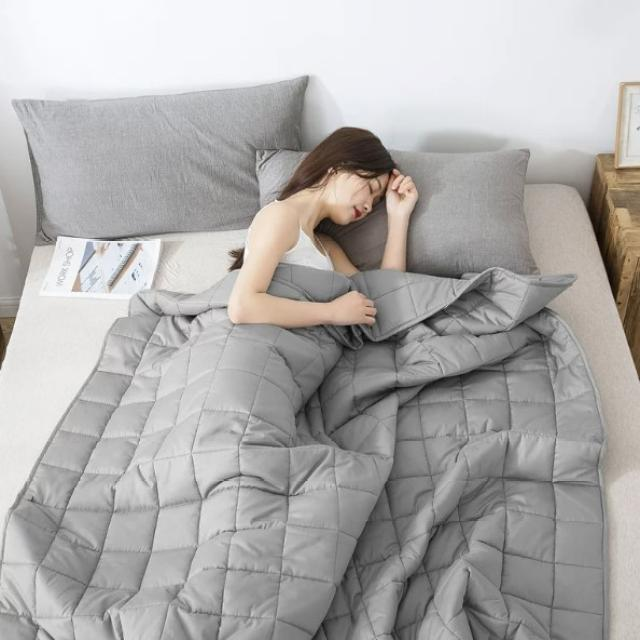sleeping-person: (152, 104, 438, 640)
